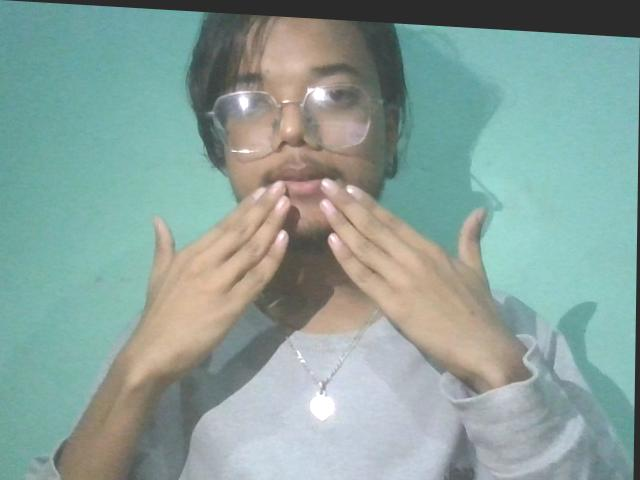Thank You: (82, 123, 547, 443)
